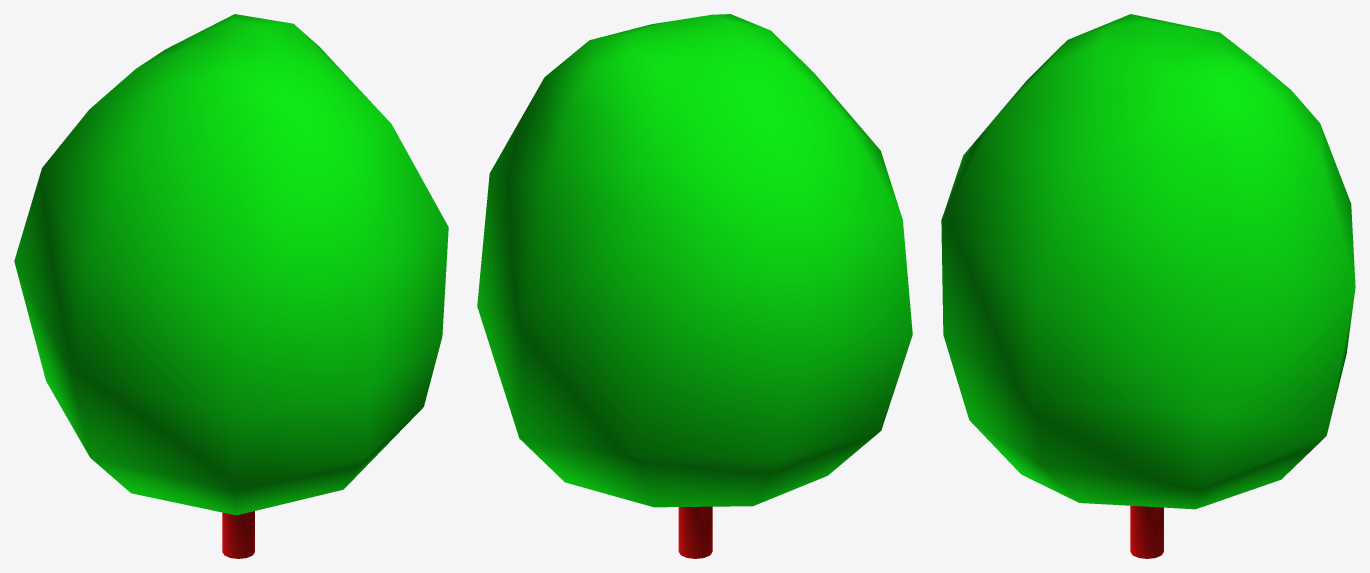
Rendered from Tree_08.fbx.
The picture shows the model from 3 angles, left to right: view 1: azimuth 30°, elevation 25°; view 2: azimuth 150°, elevation 25°; view 3: azimuth 270°, elevation 25°; orthographic projection. The views are drawn at different scales.
Parts seen in each view (by area): view 1: Tree_08; view 2: Tree_08; view 3: Tree_08.
Boxes of the visible parts, x1,y1,x2,y2 form: Tree_08: (14, 14, 448, 558); Tree_08: (477, 14, 912, 558); Tree_08: (941, 14, 1355, 558).
Bounding box in the file's own units: 439 × 577 × 421.
